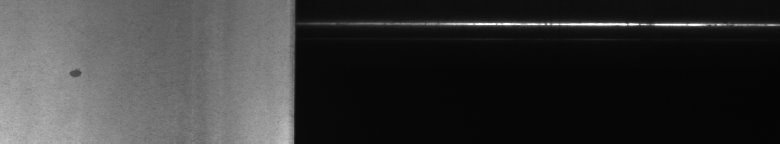fi: (67, 61, 84, 84)
